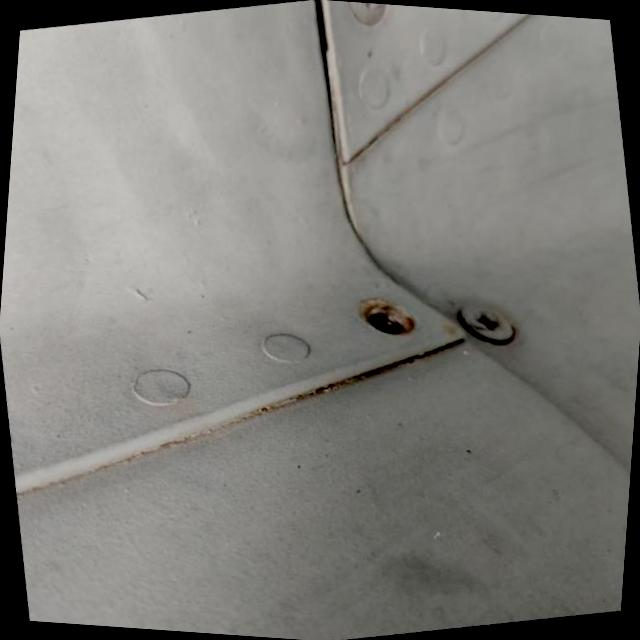Missing Fastener: (356, 293, 422, 339)
